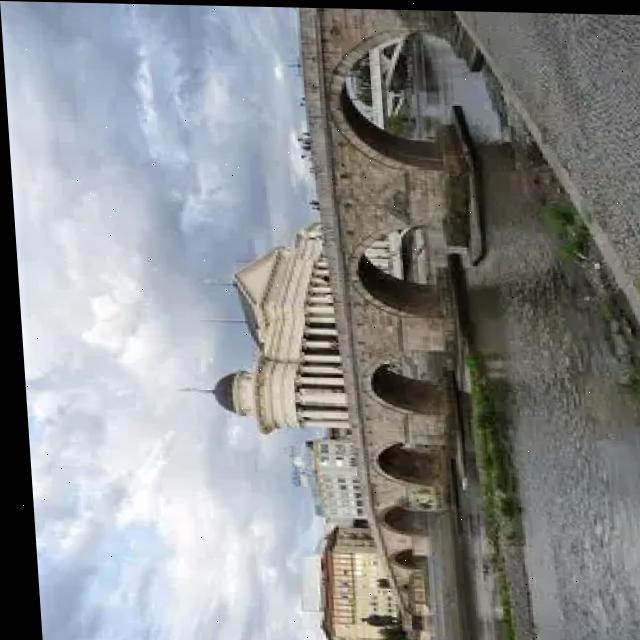Stone Bridge: (277, 14, 491, 622)
